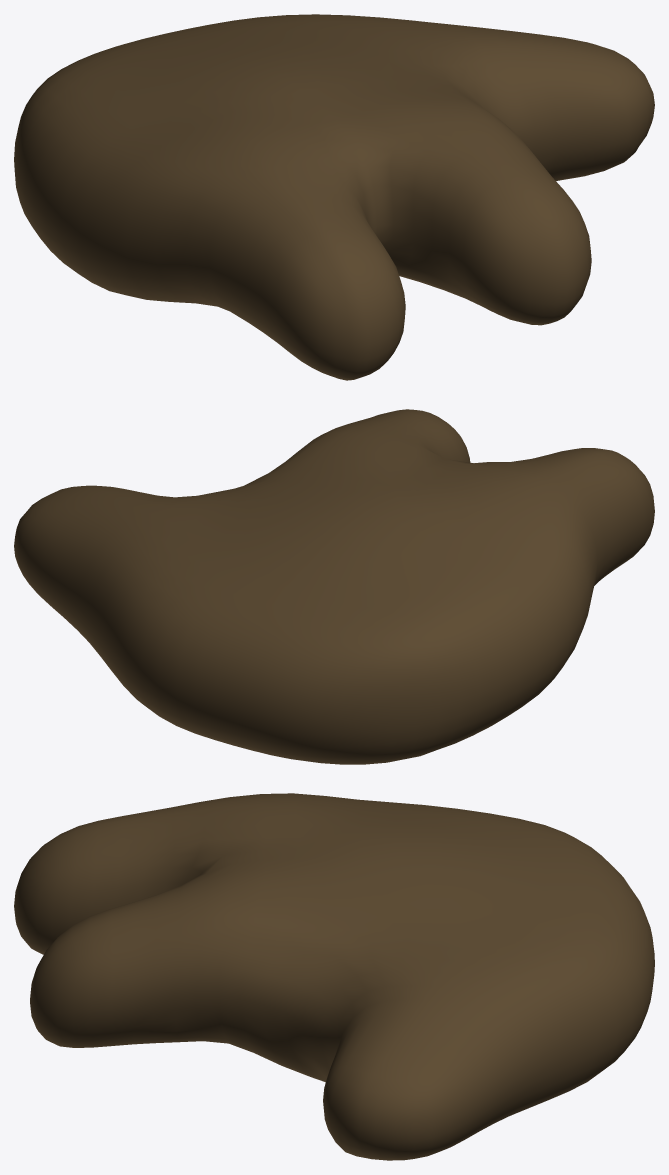
Rendered from right-hand.fbx.
The picture shows the model from 3 angles, top to bottom: view 1: azimuth 30°, elevation 25°; view 2: azimuth 150°, elevation 25°; view 3: azimuth 270°, elevation 25°; orthographic projection. The views are drawn at different scales.
Parts seen in each view (by area): view 1: Right Hand; view 2: Right Hand; view 3: Right Hand.
Part boxes in pixels (x1,y1,x2,y2): Right Hand: (14, 14, 654, 380); Right Hand: (14, 409, 654, 764); Right Hand: (14, 793, 654, 1160).
Bounding box in the file's own units: 15.99 × 5.25 × 15.84.
